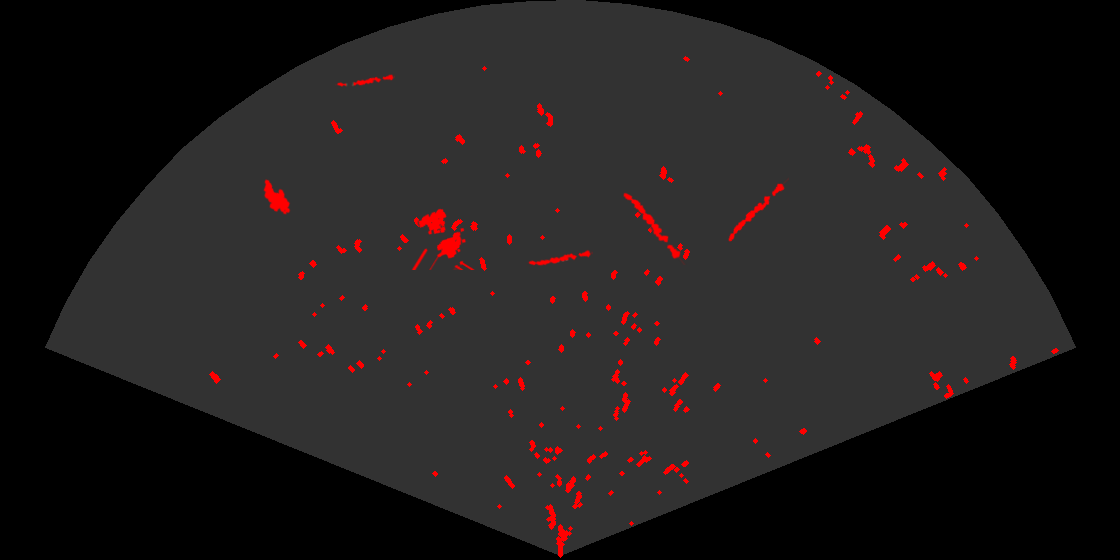AUV: (262, 178, 292, 216)
cage: (410, 207, 476, 270)
chain: (622, 191, 687, 265), (727, 176, 789, 243), (526, 248, 593, 267), (335, 73, 395, 88)
